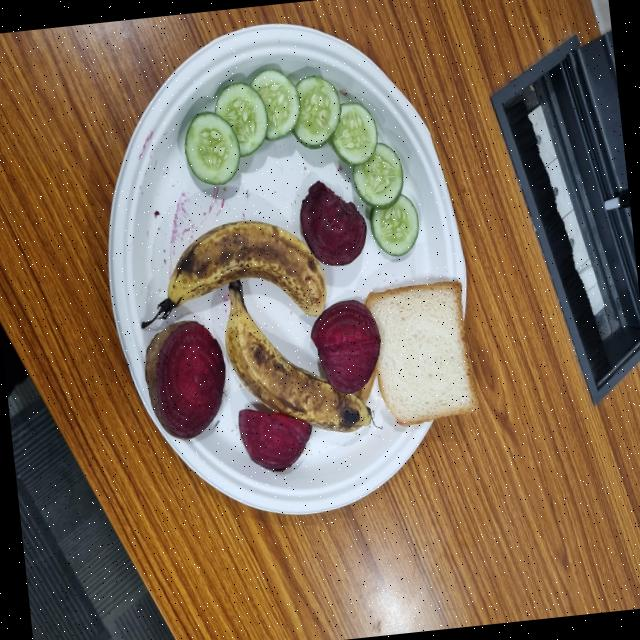banana: (305, 76, 404, 268), (391, 1, 461, 212)
cucumber: (481, 30, 540, 106), (505, 73, 564, 144), (518, 118, 578, 186), (517, 174, 575, 244), (439, 274, 492, 343), (477, 253, 528, 324), (508, 223, 560, 290)
